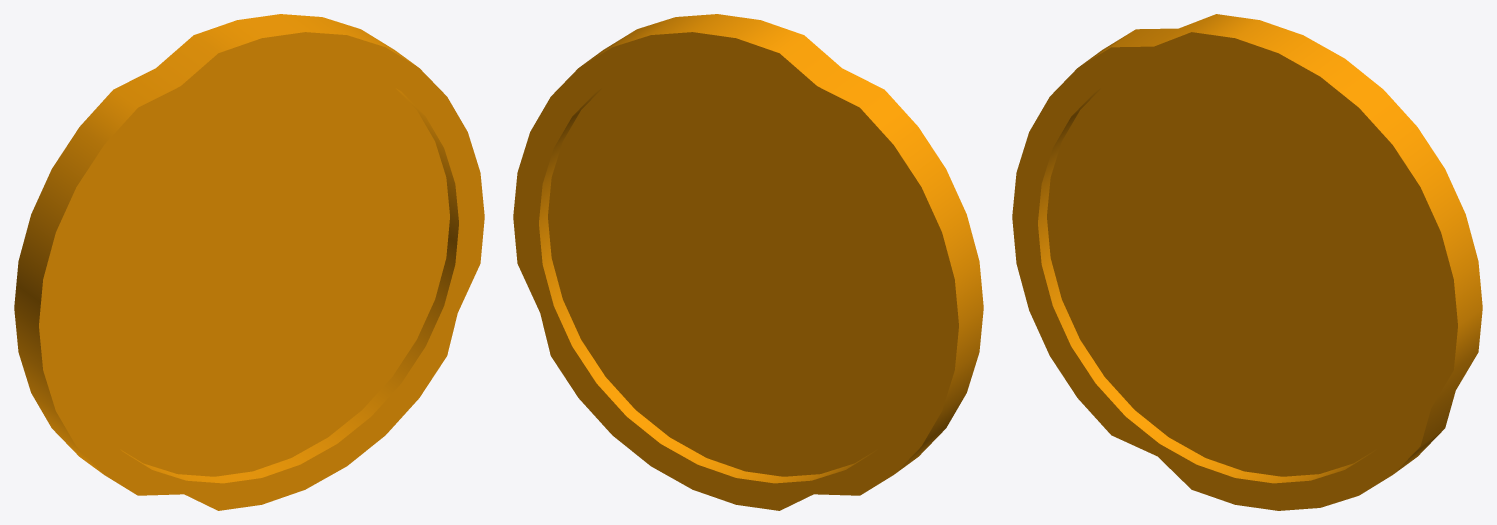
File: coin.fbx
The picture shows the model from 3 angles, left to right: view 1: azimuth 30°, elevation 25°; view 2: azimuth 150°, elevation 25°; view 3: azimuth 330°, elevation 25°; orthographic projection.
Visible parts, largest first — view 1: Cylinder; view 2: Cylinder; view 3: Cylinder.
Boxes of the visible parts, <box> form: Cylinder: <box>14,14,484,510</box>; Cylinder: <box>513,14,983,510</box>; Cylinder: <box>1012,14,1482,510</box>.
Size of the model in its own units: 71.05 by 71.05 by 6.82.
